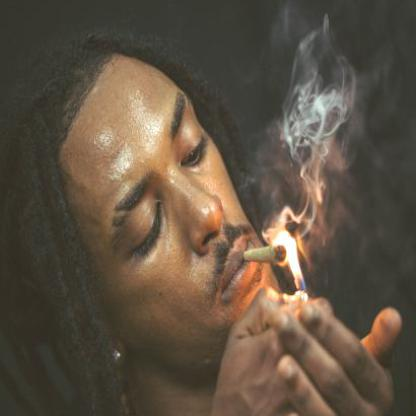cigarette: (242, 244, 286, 266)
person: (10, 35, 279, 415)
smoke: (274, 37, 354, 222)
